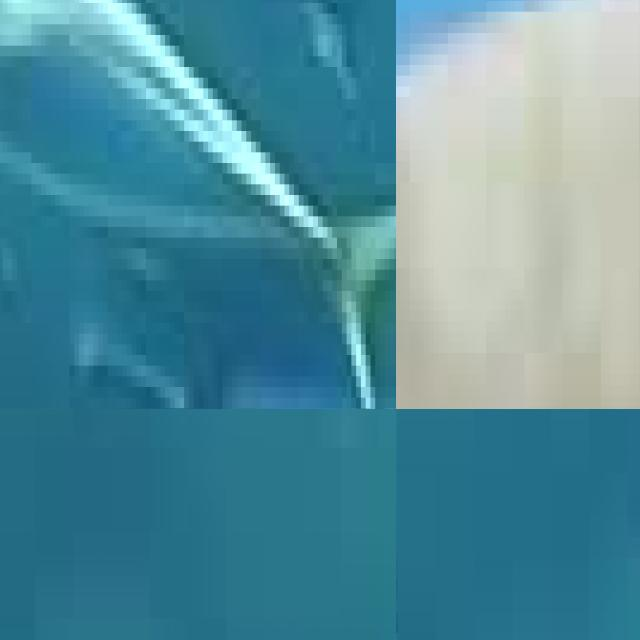fish: (0, 0, 396, 409), (396, 0, 640, 409)
